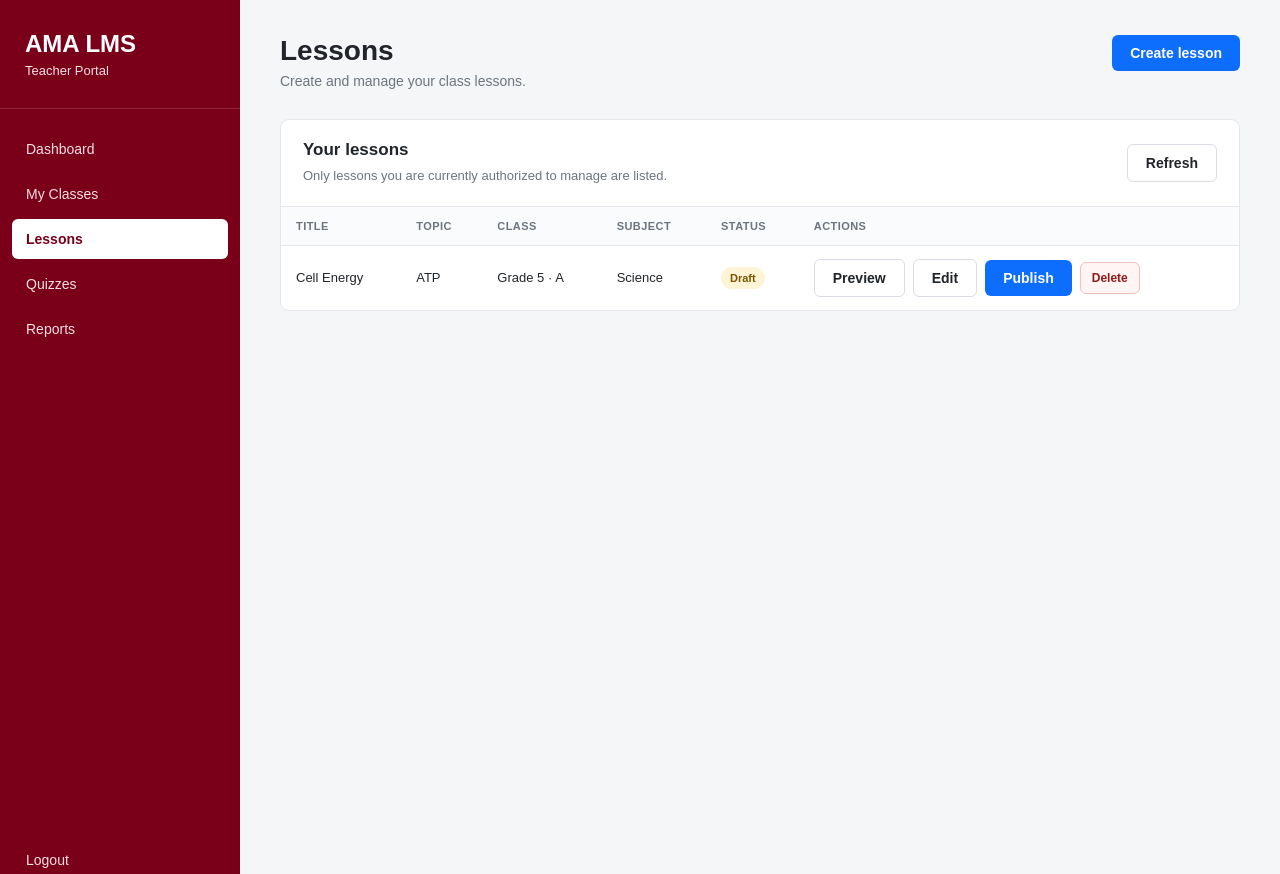
Test case: teacher lesson management › previews unsaved edits and returns to editing without losing them
Expected: the heading "Your lessons" is shown, 303,140 -> 408,159
Click the button "Edit". click: (945, 278)
box: 913,258 -> 977,296
(page scrolled)
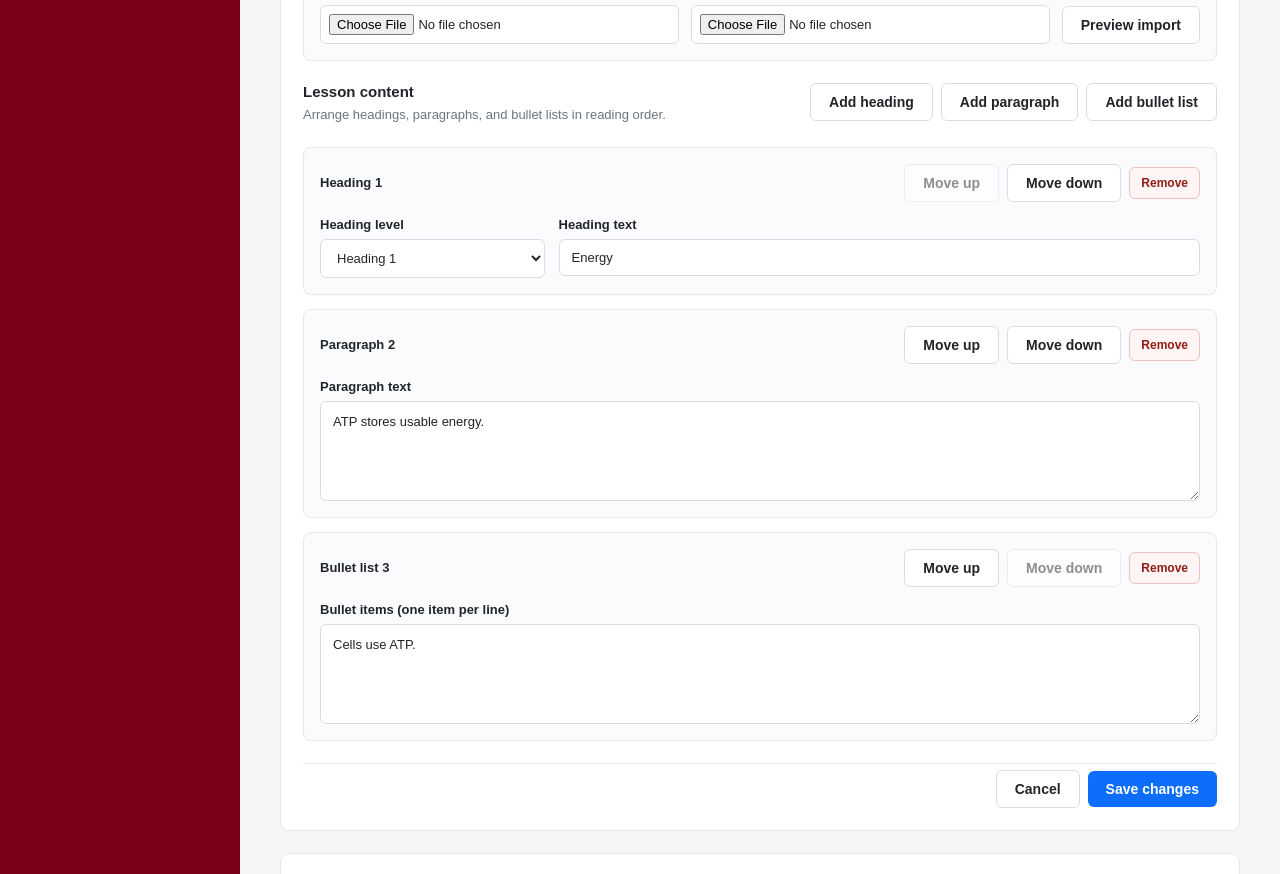
Replace the text in the text box named "Block 2 paragraph text" with "Unsaved student-facing edit.". click: (760, 450)
box: 320,400 -> 1200,500
(page scrolled)
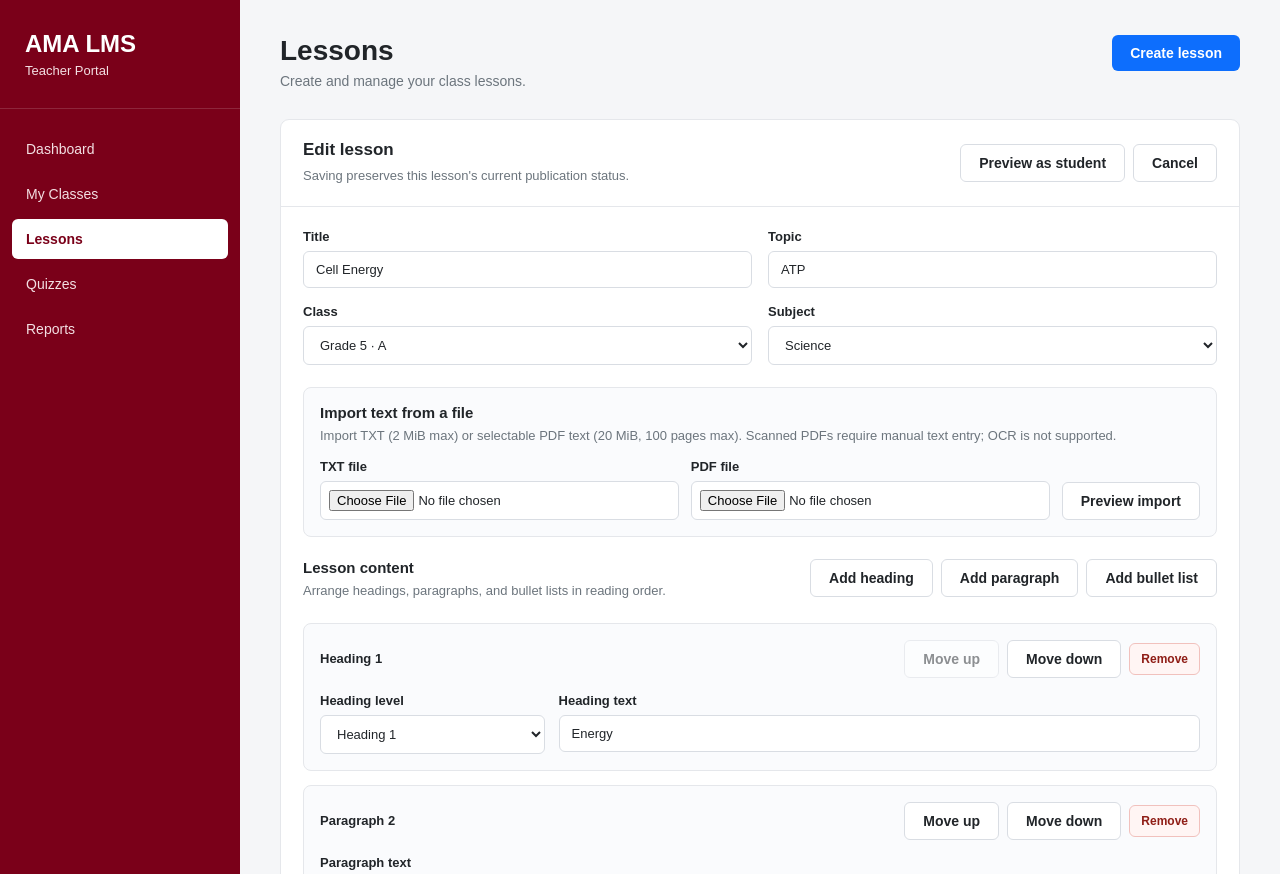
Click the button "Preview as student". click: (1043, 163)
box: 960,144 -> 1125,182
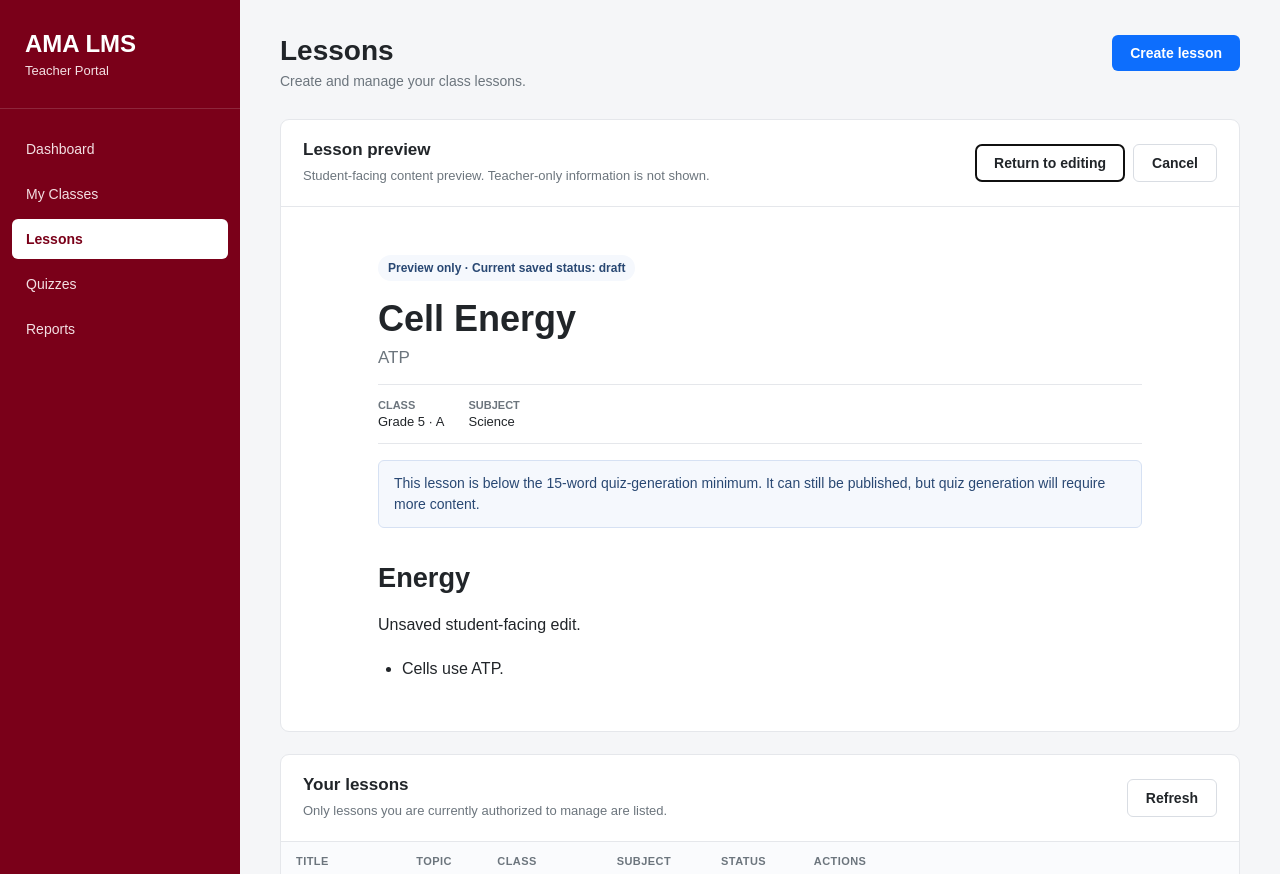
Expected: the element named "Student lesson preview" is shown, 330,206 -> 1190,731
Expected: the heading "Cell Energy" is shown, 378,298 -> 576,338
Expected: the text with class "lesson-preview-topic" reads "ATP", 378,348 -> 410,367
Click the button "Return to editing". click: (1050, 163)
box: 975,144 -> 1125,182
(page scrolled)
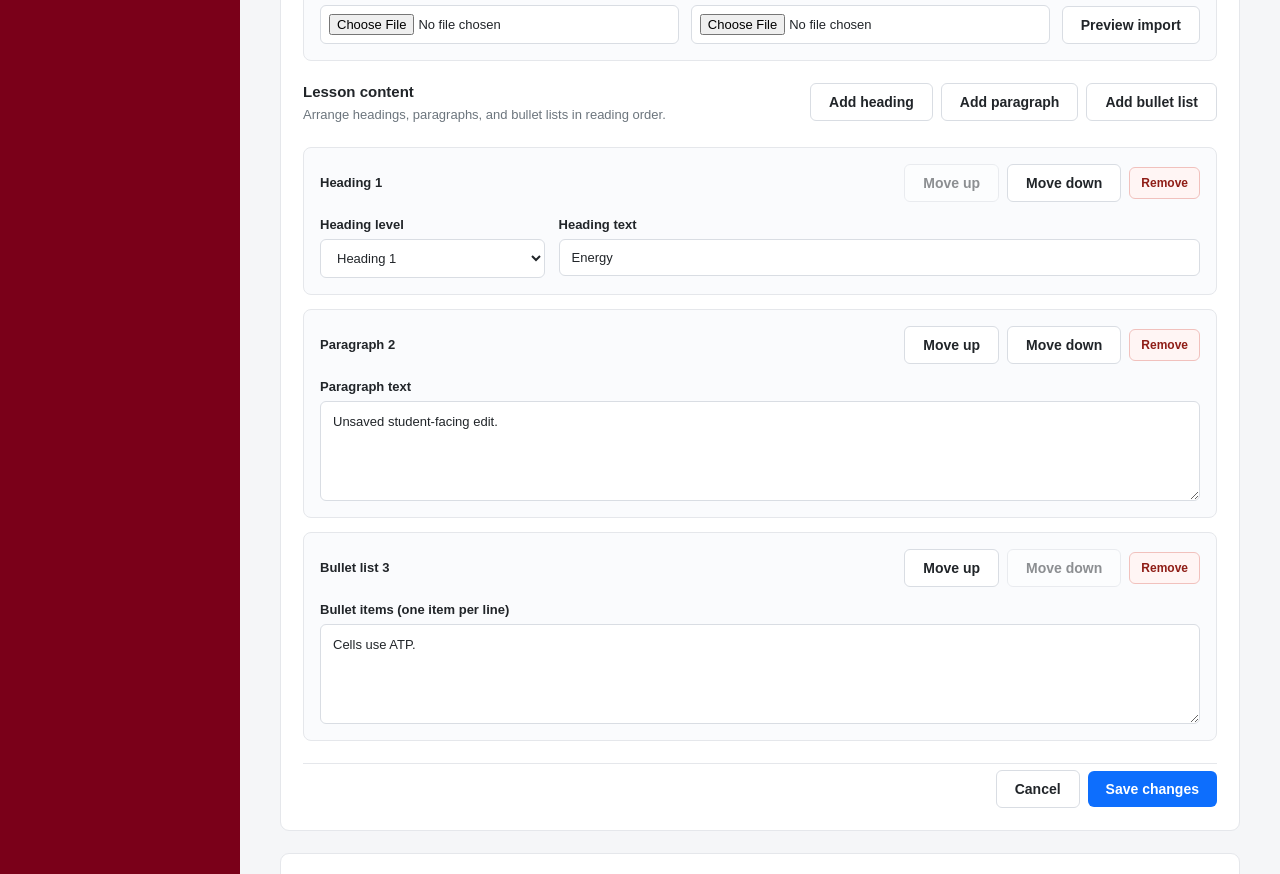
Expected: the text box named "Block 2 paragraph text" holds "Unsaved student-facing edit.", 320,400 -> 1200,500
